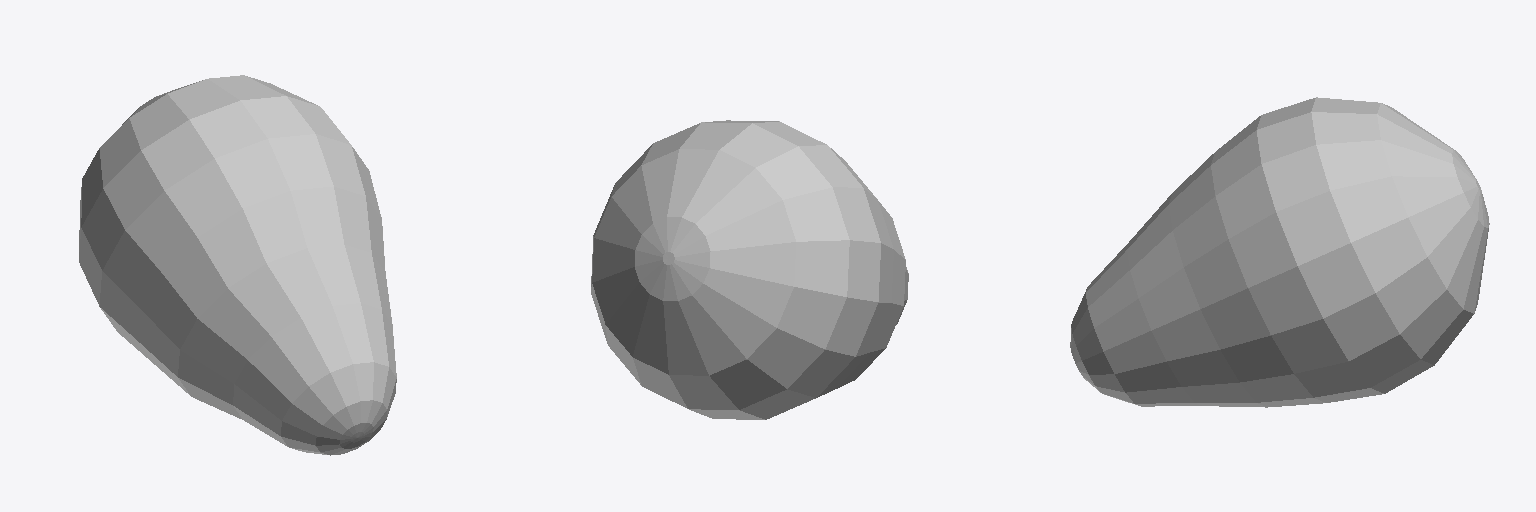
File: Aguacate.obj
3 renders of one model, left to right at view 1: azimuth 30°, elevation 25°; view 2: azimuth 150°, elevation 25°; view 3: azimuth 270°, elevation 25°, orthographic.
Parts seen in each view (by area): view 1: Aguacates.001_avocado.001; view 2: Aguacates.001_avocado.001; view 3: Aguacates.001_avocado.001.
Part boxes in pixels (x1,y1,x2,y2): Aguacates.001_avocado.001: (79, 75, 396, 455); Aguacates.001_avocado.001: (591, 120, 908, 419); Aguacates.001_avocado.001: (1070, 97, 1489, 407).
Bounding box in the file's own units: 0.1853 × 0.193 × 0.2546.